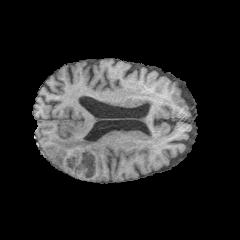glioma: (44, 137, 117, 181)
